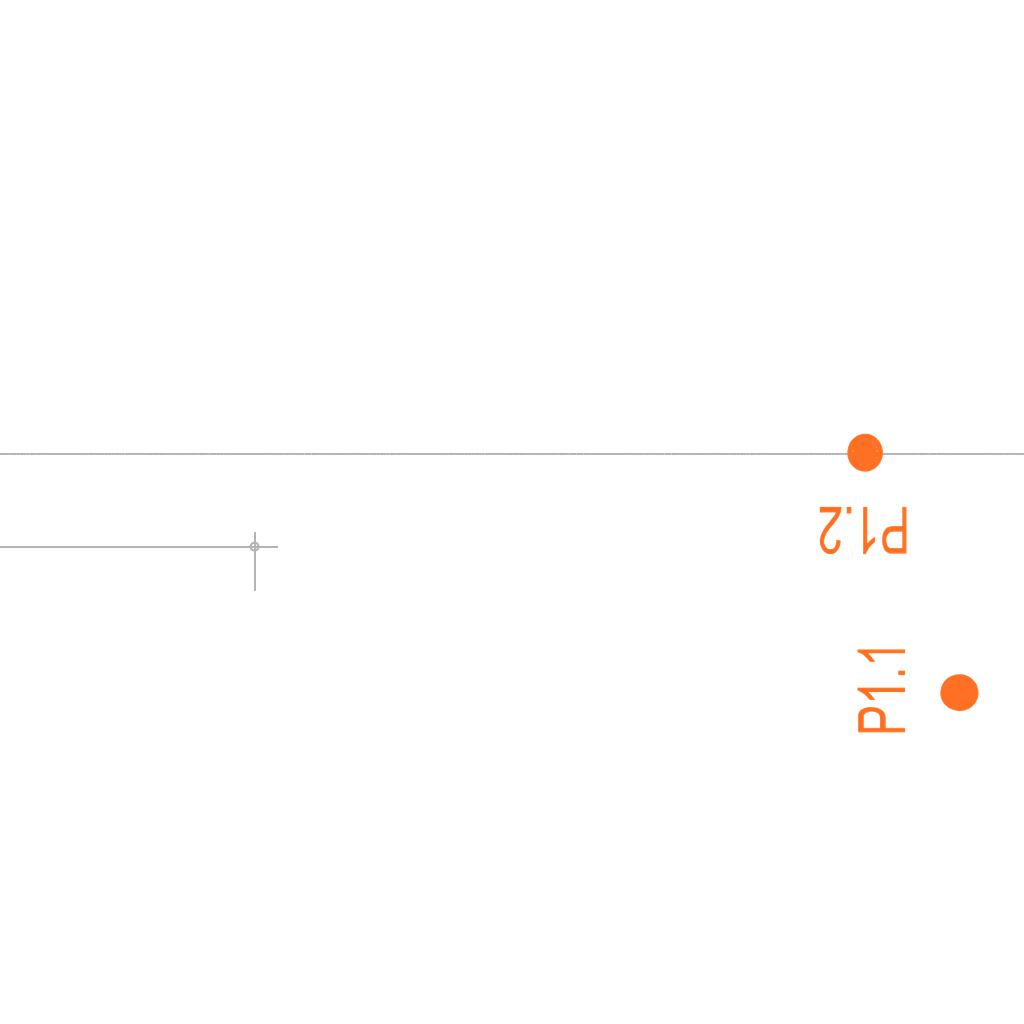Downlight_LED_Einbauleuchten_Flur: (854, 643, 982, 736), (817, 430, 910, 558)
